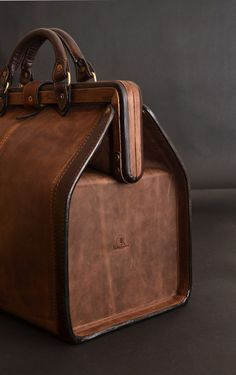cuero: (1, 27, 192, 343)
